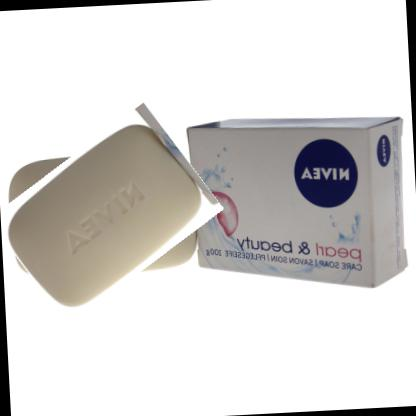soap: (0, 120, 218, 309)
